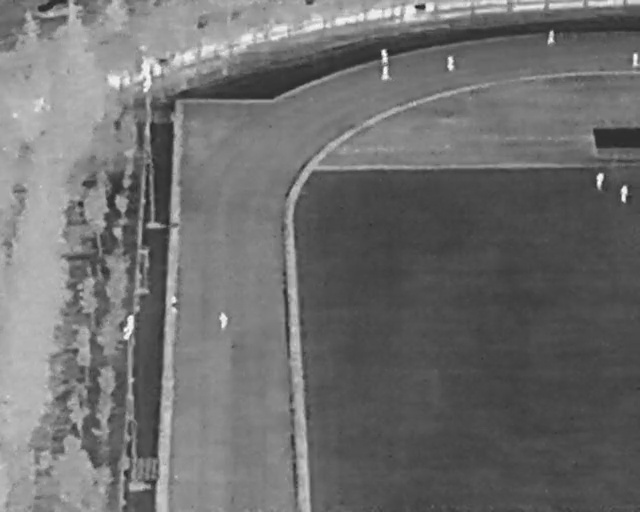Person: (217, 310, 229, 330), (619, 183, 629, 203), (170, 295, 179, 314), (381, 47, 390, 64), (446, 54, 455, 71), (596, 171, 604, 190), (381, 64, 389, 82), (548, 28, 556, 44), (631, 52, 639, 67)
